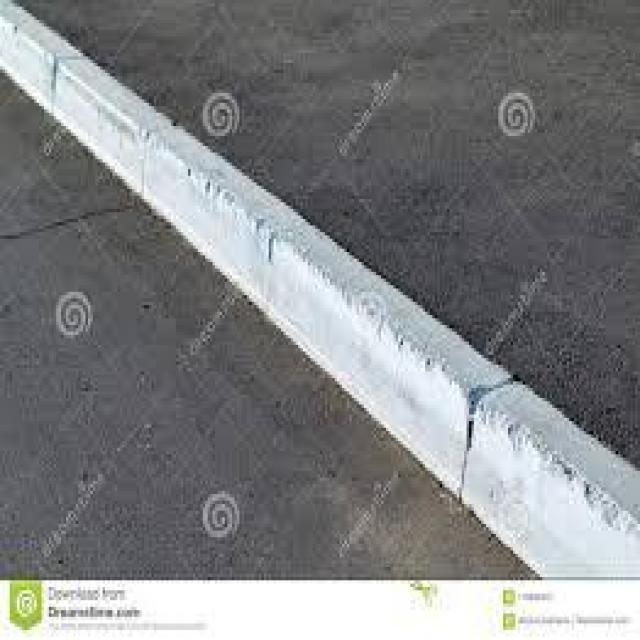curb: (244, 220, 532, 427), (399, 389, 638, 576), (88, 81, 263, 272), (8, 1, 109, 137)
